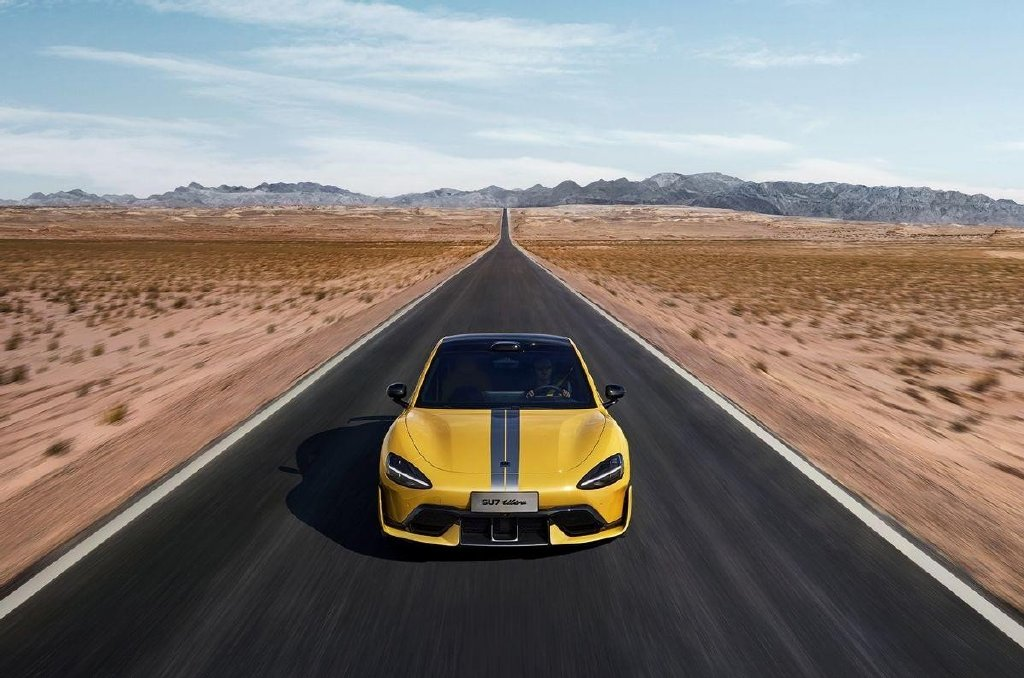su7: (373, 331, 638, 553)
